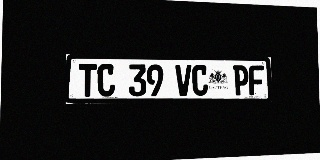3: (129, 64, 146, 96)
9: (147, 64, 163, 96)
C: (97, 64, 115, 97), (192, 65, 208, 96)
F: (249, 65, 264, 95)
P: (233, 65, 249, 95)
T: (78, 64, 97, 97)
V: (175, 65, 192, 96)
